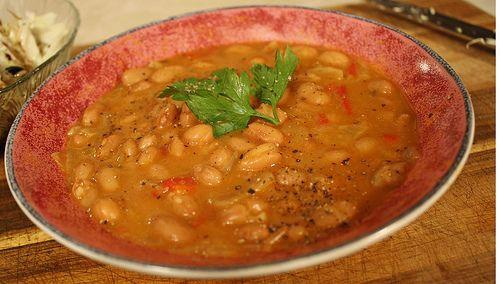RajmaCurry: (62, 39, 419, 254)
